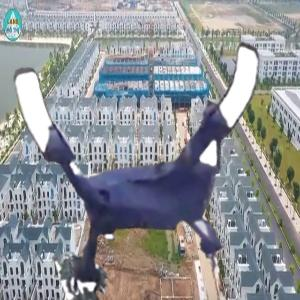drone: (25, 26, 293, 294)
